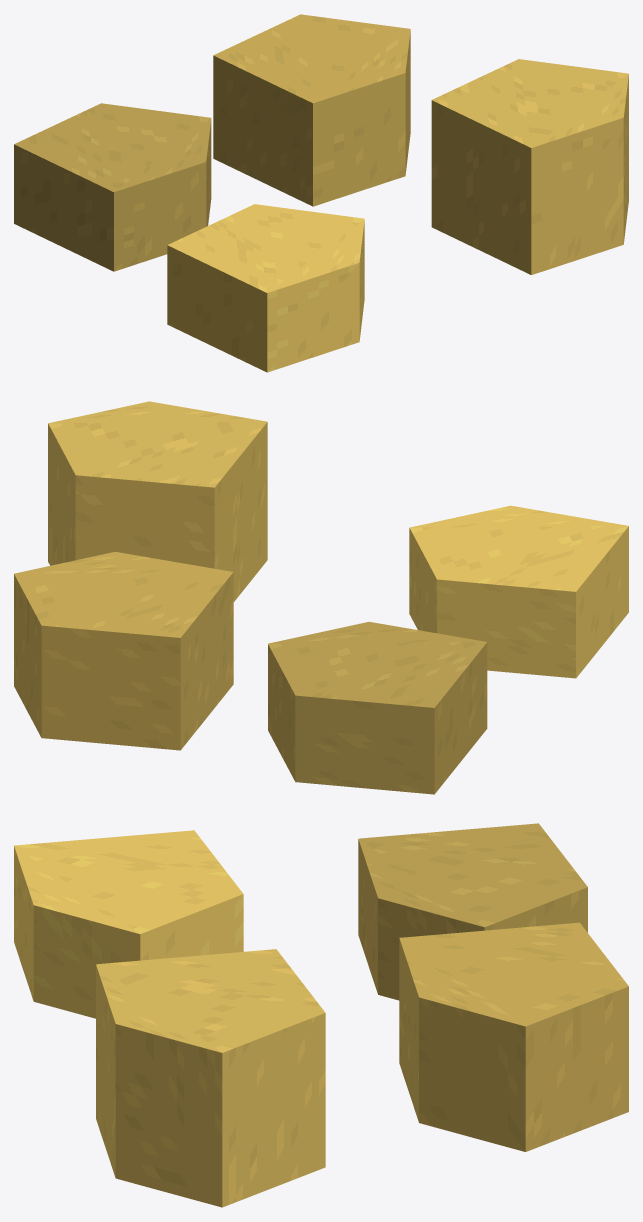
Rendered from pineapple_chunks.glb.
3 renders of one model, top to bottom at view 1: azimuth 30°, elevation 25°; view 2: azimuth 150°, elevation 25°; view 3: azimuth 270°, elevation 25°, orthographic. The views are drawn at different scales.
Parts seen in each view (by area): view 1: block_irregular fruit chunk (×4); view 2: block_irregular fruit chunk (×4); view 3: block_irregular fruit chunk (×4).
Part boxes in pixels (box(x1,y1,x2,y2)): block_irregular fruit chunk (×4): box(14, 14, 628, 372); block_irregular fruit chunk (×4): box(14, 401, 628, 794); block_irregular fruit chunk (×4): box(14, 823, 628, 1207).
Size of the model in its own units: 0.114 by 0.0286 by 0.103.
1 material, 1 textured.
